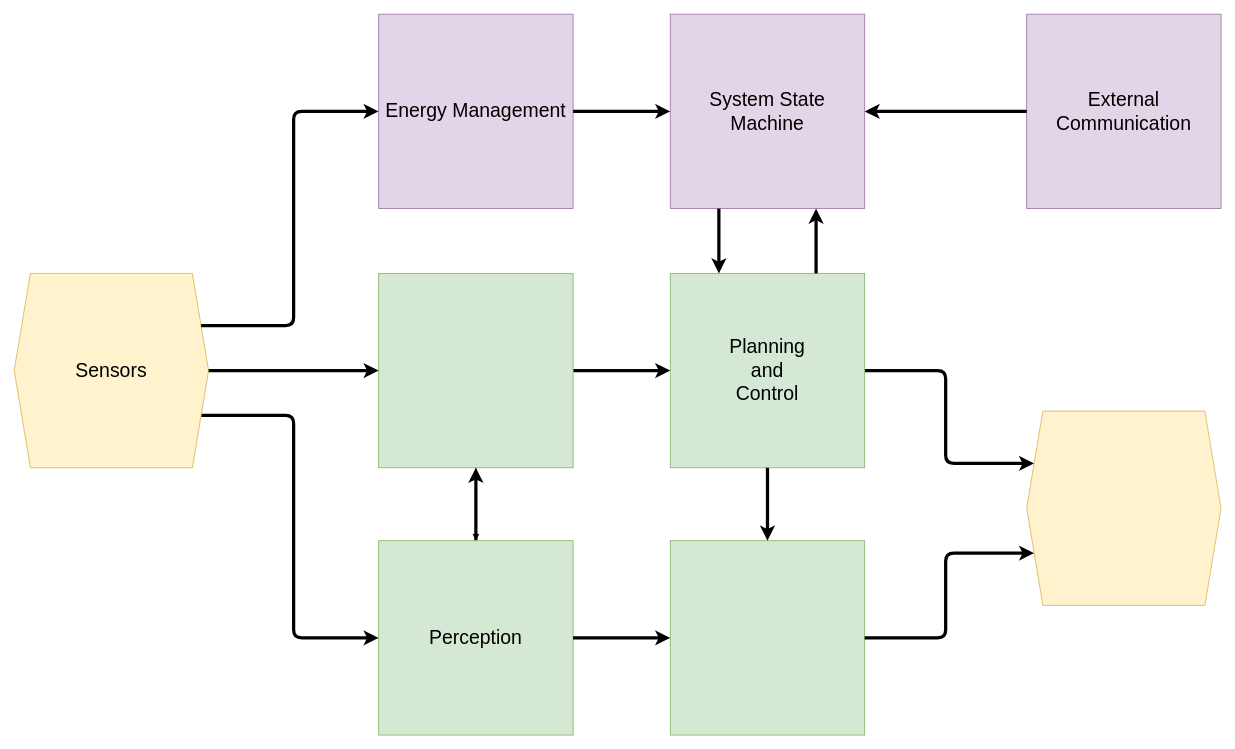
Some shapes in this 1235 by 749 pixel diagram are drawn without their labels. The shapes that lost their labels are listed below. From the top down, each one's centre as x and y in pixels, then its label:
At point (475, 370): "Localization and Mapping".
At point (1123, 507): "Actuators".
At point (767, 637): "Manipulation".
